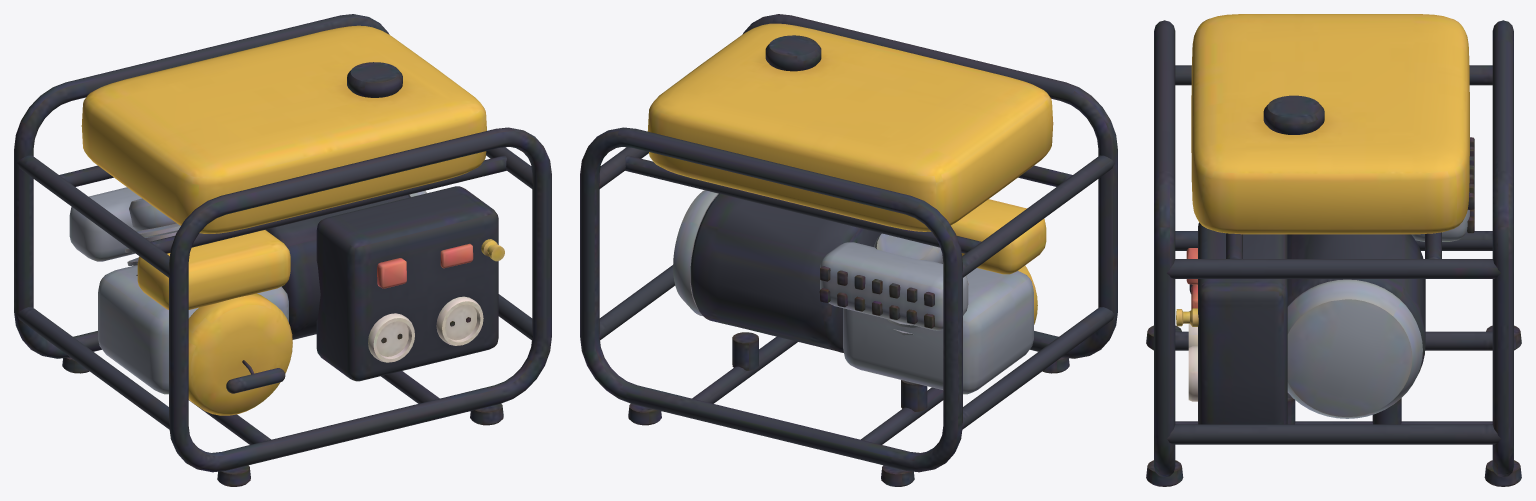
Rendered from generator.glb.
3 renders of one model, left to right at view 1: azimuth 30°, elevation 25°; view 2: azimuth 150°, elevation 25°; view 3: azimuth 270°, elevation 25°, orthographic. The views are drawn at different scales.
Visible parts, largest first — view 1: generator_body; view 2: generator_body; view 3: generator_body.
Boxes of the visible parts, x1,y1,x2,y2 form: generator_body: (14,14,551,486); generator_body: (580,14,1117,486); generator_body: (1146,14,1521,486).
Bounding box in the file's own units: 0.722 × 0.576 × 0.566.
1 material, 1 textured.
